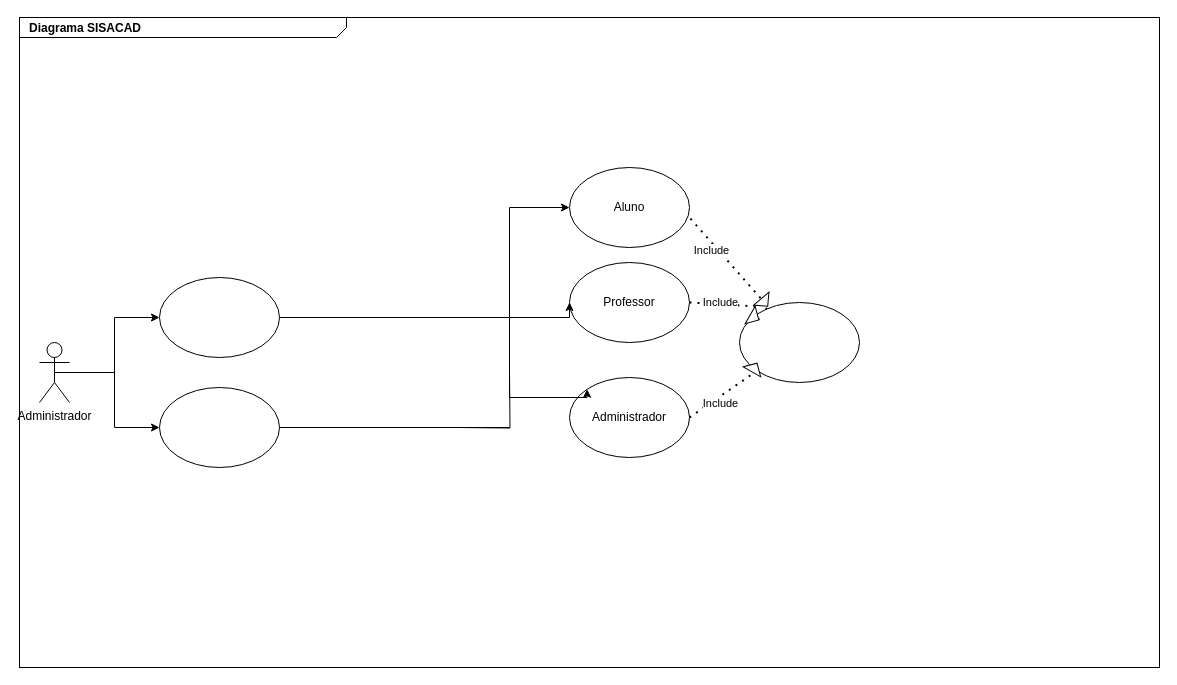
This 1177x685 diagram has some shape labels left out. Each missing label, with the centre of its shape:
Consulta Matrícula: pixel 219 317
Criação de matrícula: pixel 219 427
Registro no Banco: pixel 799 342
